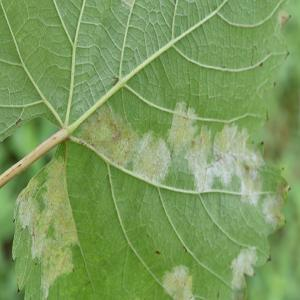Folha: (0, 0, 300, 300)
Fungo: (18, 157, 76, 300), (188, 116, 261, 190), (76, 100, 139, 168), (132, 130, 171, 184), (166, 100, 198, 157), (229, 245, 258, 291), (161, 263, 195, 299), (264, 183, 289, 230), (240, 164, 262, 206), (278, 8, 290, 28), (266, 255, 272, 266), (258, 60, 265, 69), (112, 76, 118, 85), (183, 245, 188, 254), (154, 249, 160, 255)
